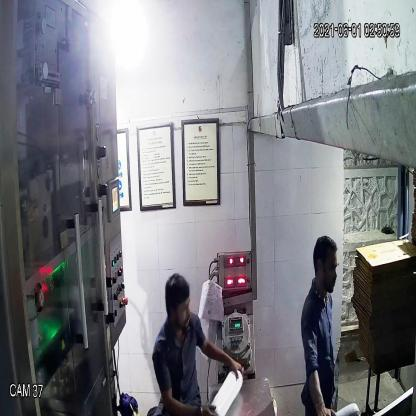no_goggles: (160, 297, 194, 320), (314, 256, 344, 278)
